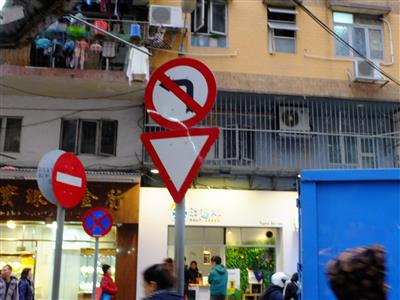noLeftTurn: (142, 53, 218, 131)
noStopping: (80, 205, 114, 238)
stop: (50, 147, 88, 210)
yield: (137, 126, 222, 204)
